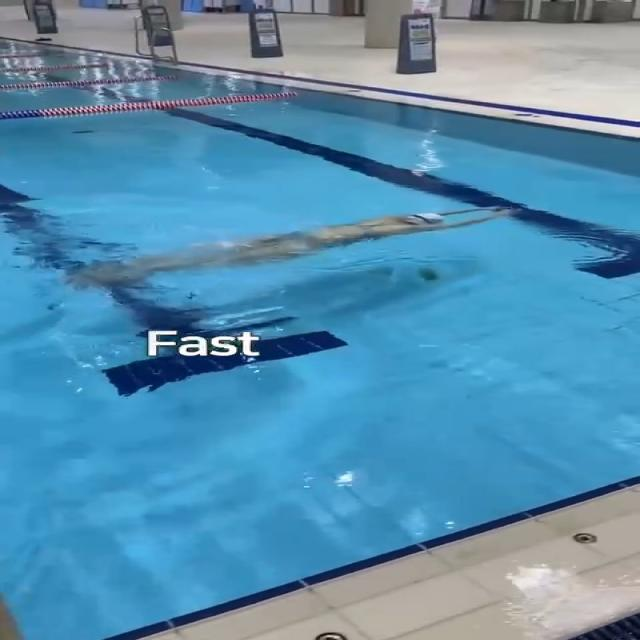Swimming: (60, 202, 522, 296)
